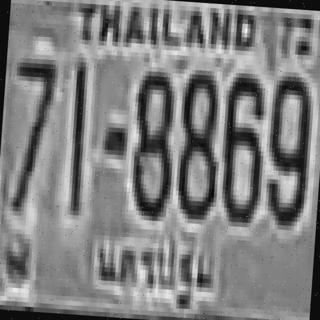N01: (64, 59, 89, 213)
N06: (218, 68, 266, 219)
N07: (6, 53, 55, 208)
N08: (173, 64, 221, 216), (128, 66, 176, 217)
N09: (261, 71, 313, 222)
P28: (86, 218, 219, 316)
